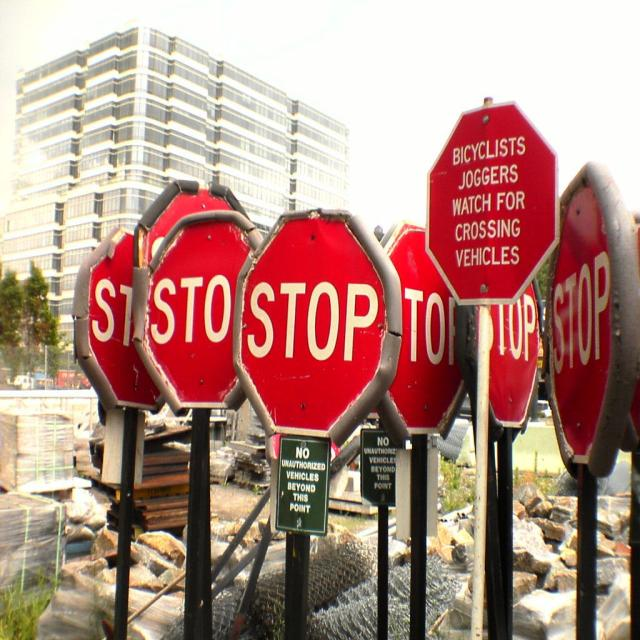Stop-sign: (70, 99, 640, 482)
